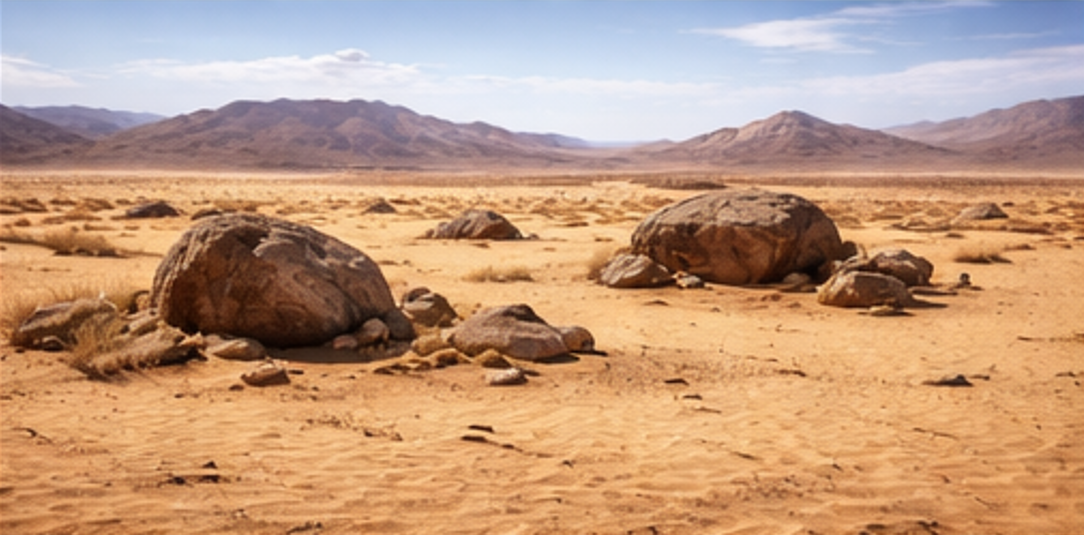rocks: (151, 214, 411, 346), (630, 189, 852, 283), (449, 303, 568, 360), (817, 270, 912, 306), (423, 208, 522, 238), (598, 254, 670, 287), (124, 200, 179, 218)
